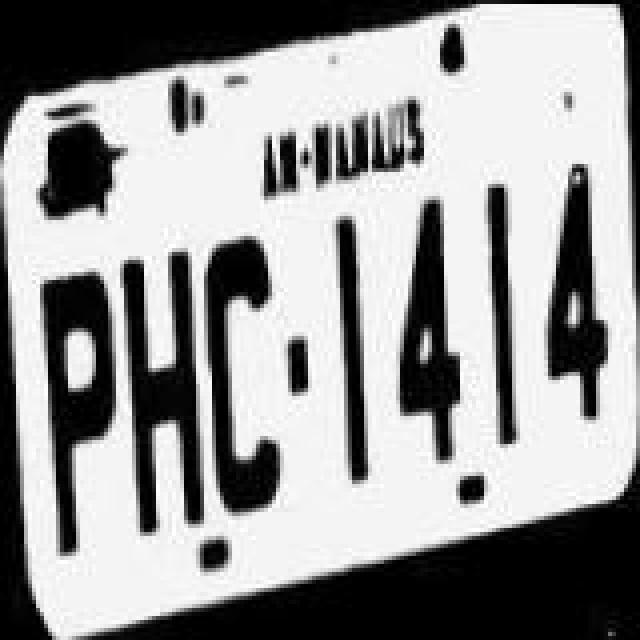1: (322, 202, 382, 494), (478, 162, 530, 446)
4: (530, 146, 622, 438), (390, 188, 474, 464)
C: (202, 228, 290, 516)
H: (120, 242, 204, 522)
P: (36, 266, 120, 550)
